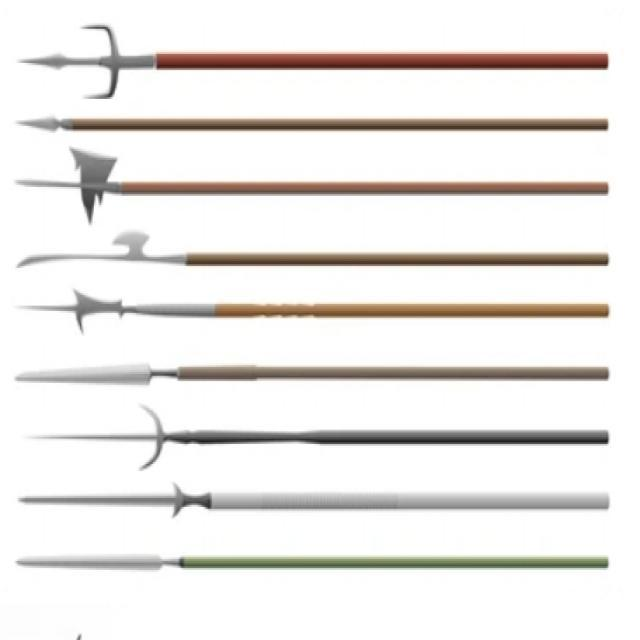spear: (9, 0, 616, 101), (9, 145, 616, 220), (11, 215, 618, 290), (33, 402, 611, 476), (11, 346, 614, 414), (8, 544, 624, 600), (8, 481, 618, 536), (8, 290, 610, 338), (21, 111, 616, 138)
